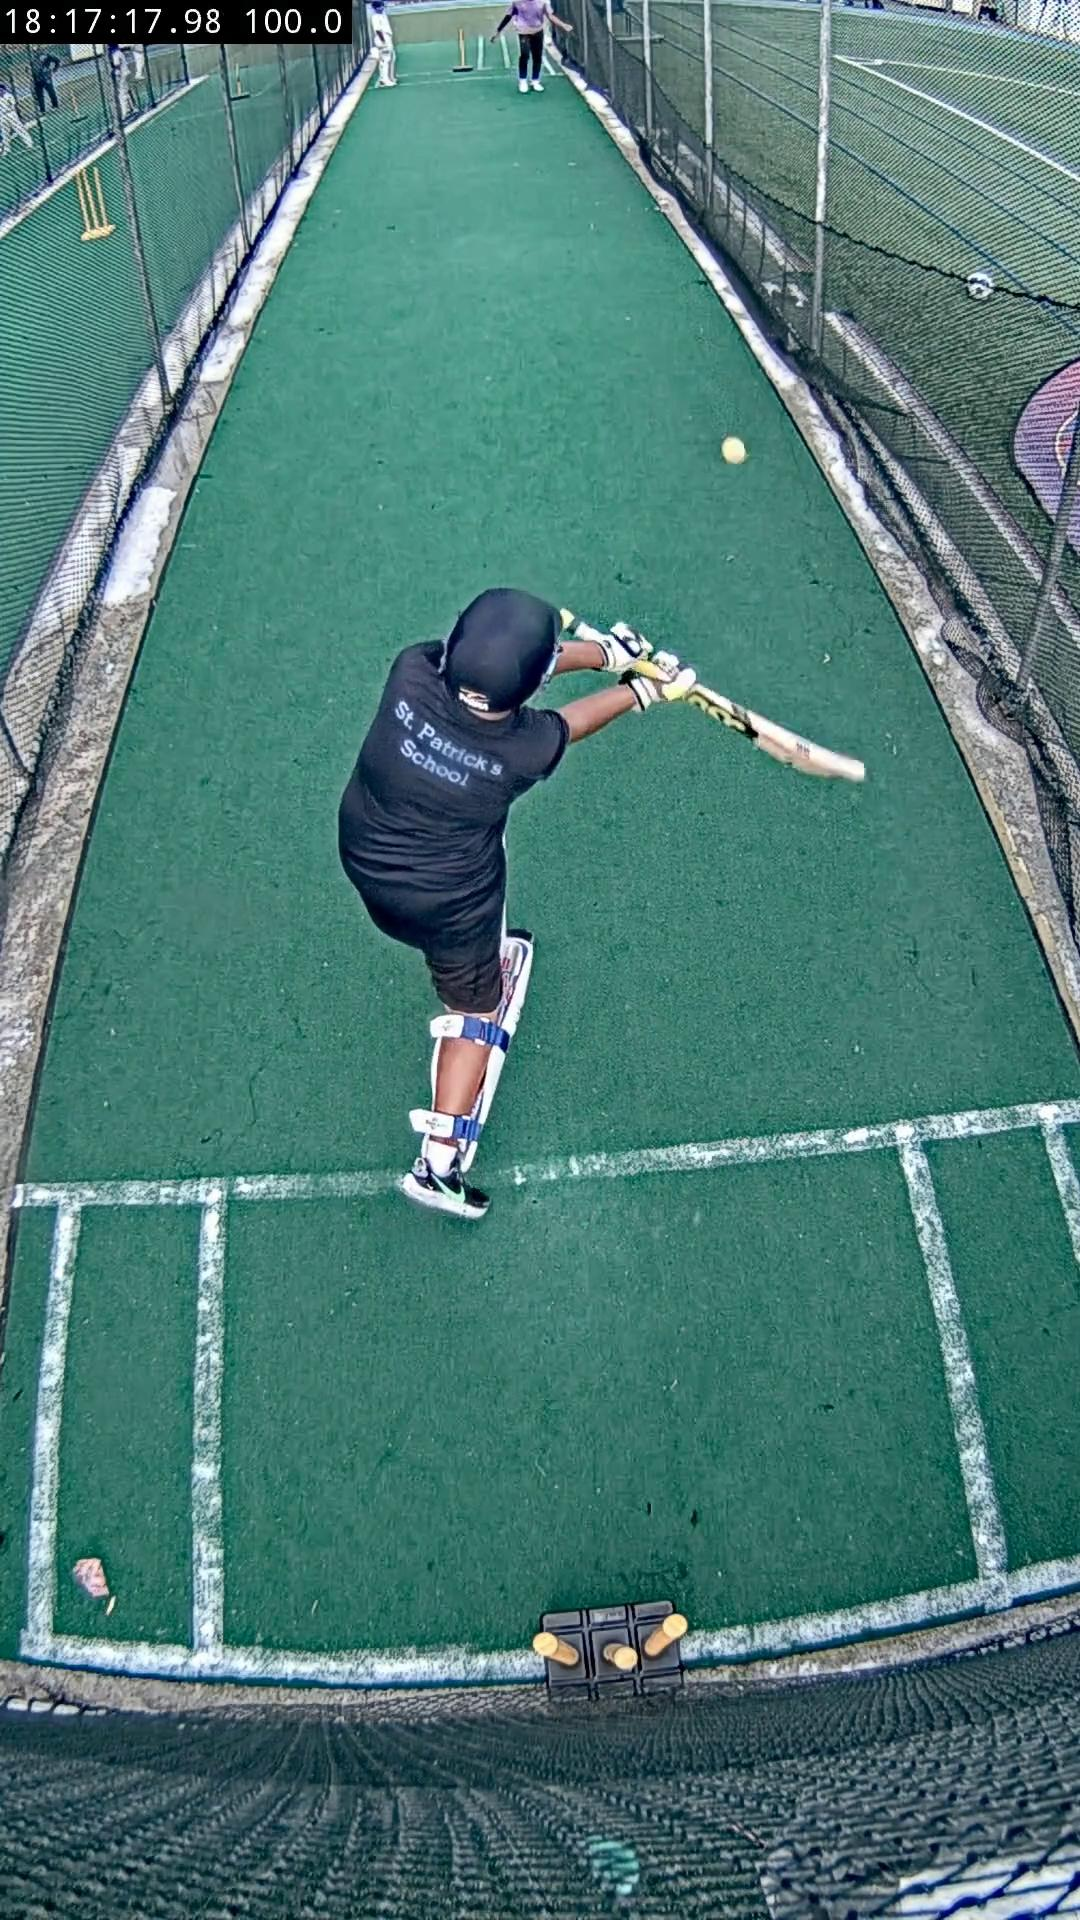ball: (720, 435, 746, 465)
bat: (686, 683, 866, 781), (559, 608, 592, 637), (634, 657, 661, 675)
gloves: (574, 622, 698, 707)
helmet: (443, 588, 559, 712)
pads: (450, 930, 533, 1174)
stumps: (533, 1601, 686, 1697)
